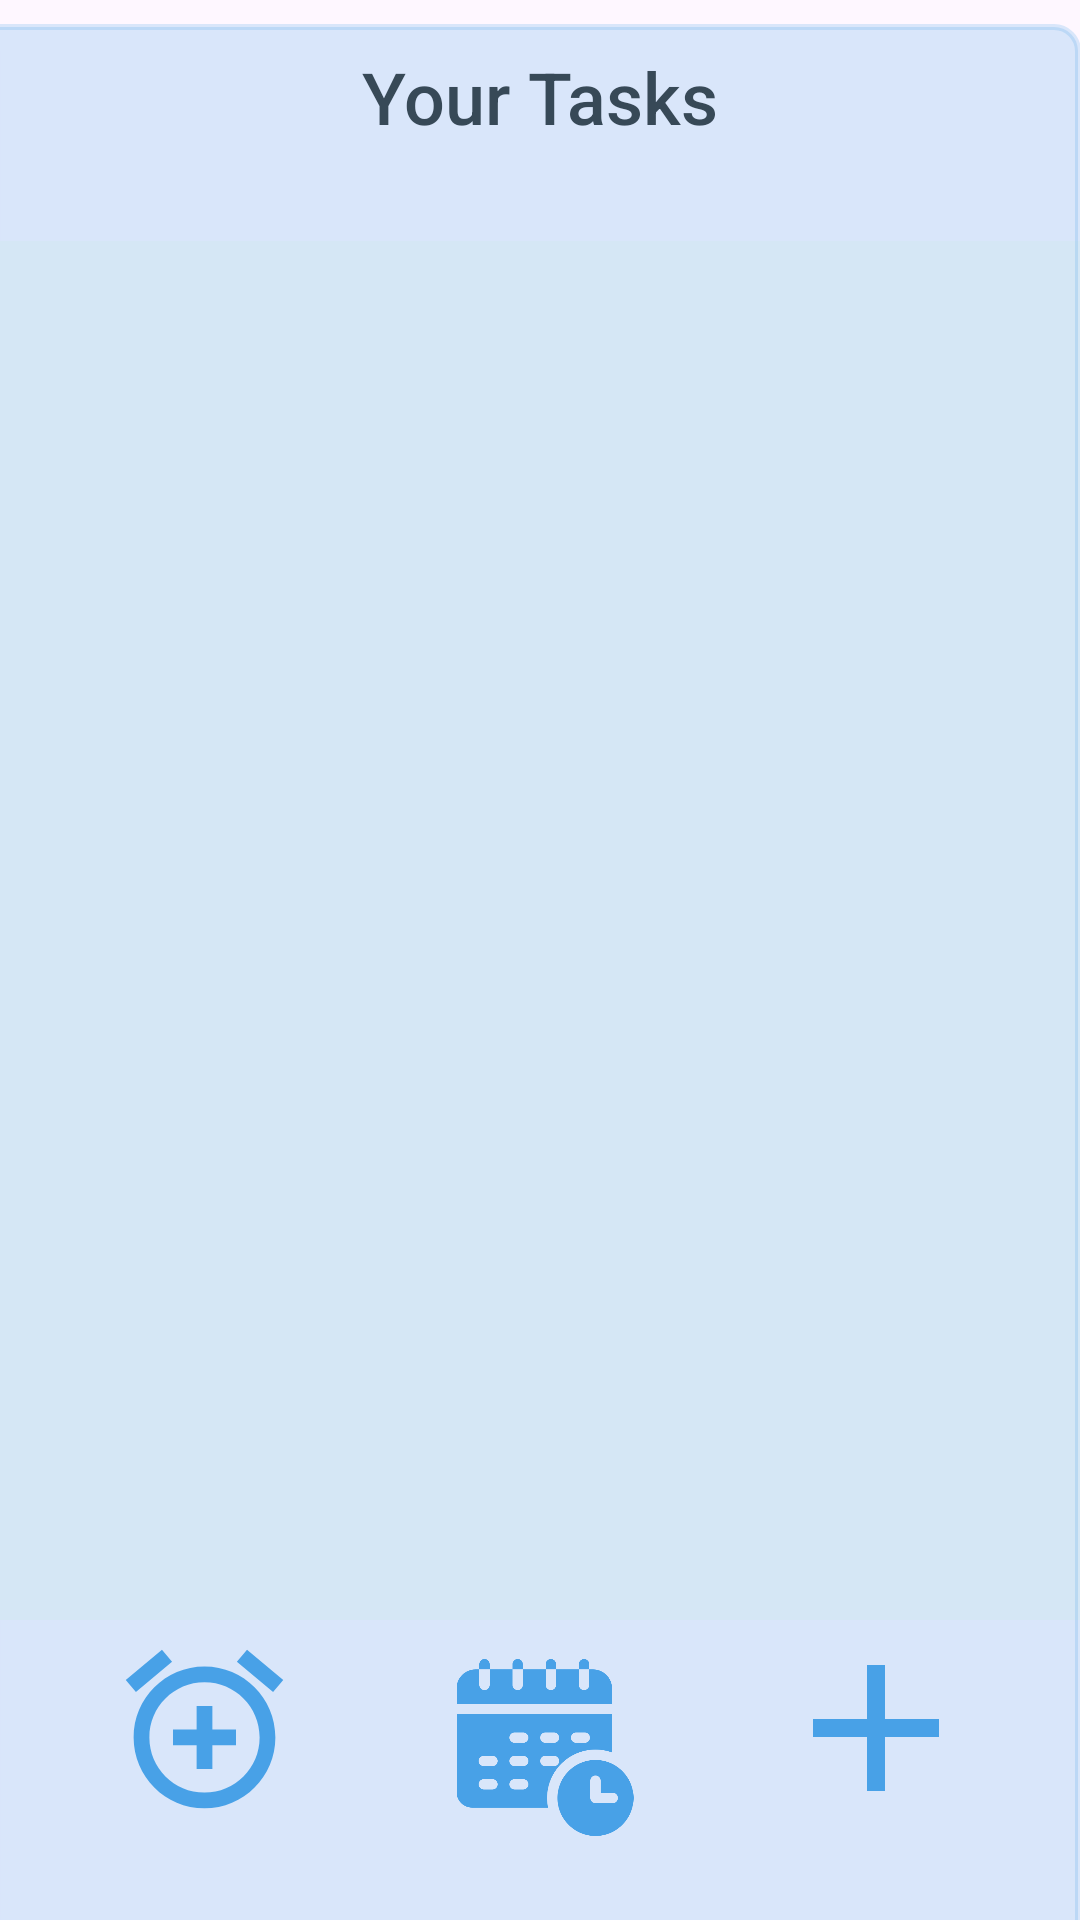

Where to tap for icons on this 1080×1920 app screen, as [x,y]:
add alarm: [204,1729]
Add Task: [876,1728]
schedule: [545,1747]
